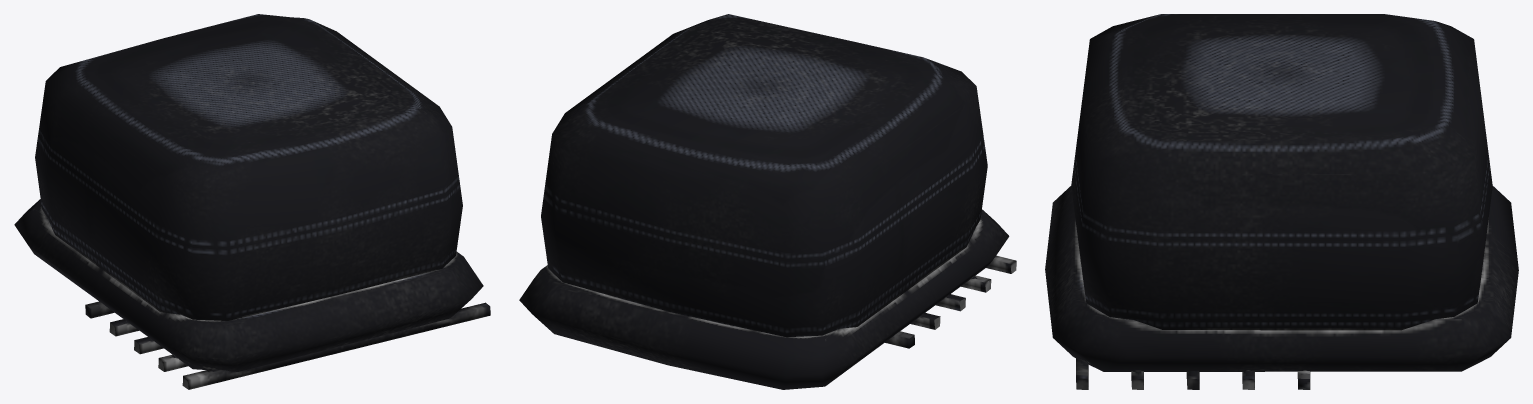
The model's file is Maton_BotaDer.fbx.
3 renders of one model, left to right at view 1: azimuth 30°, elevation 25°; view 2: azimuth 150°, elevation 25°; view 3: azimuth 270°, elevation 25°, orthographic. The views are drawn at different scales.
Parts seen in each view (by area): view 1: Maton_BotaDer; view 2: Maton_BotaDer; view 3: Maton_BotaDer.
Boxes of the visible parts, x1=… form: Maton_BotaDer: x1=14, y1=14, x2=490, y2=389; Maton_BotaDer: x1=519, y1=14, x2=1016, y2=389; Maton_BotaDer: x1=1045, y1=14, x2=1518, y2=389.
Size of the model in its own units: 1.31 by 0.8325 by 1.53.
